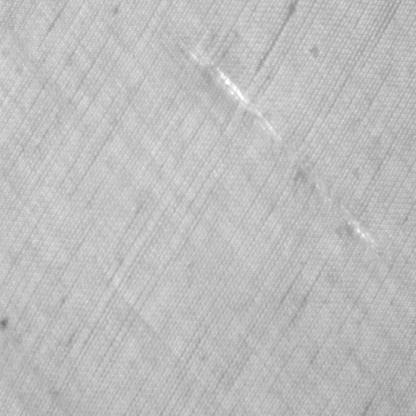thread error: (176, 34, 379, 249)
